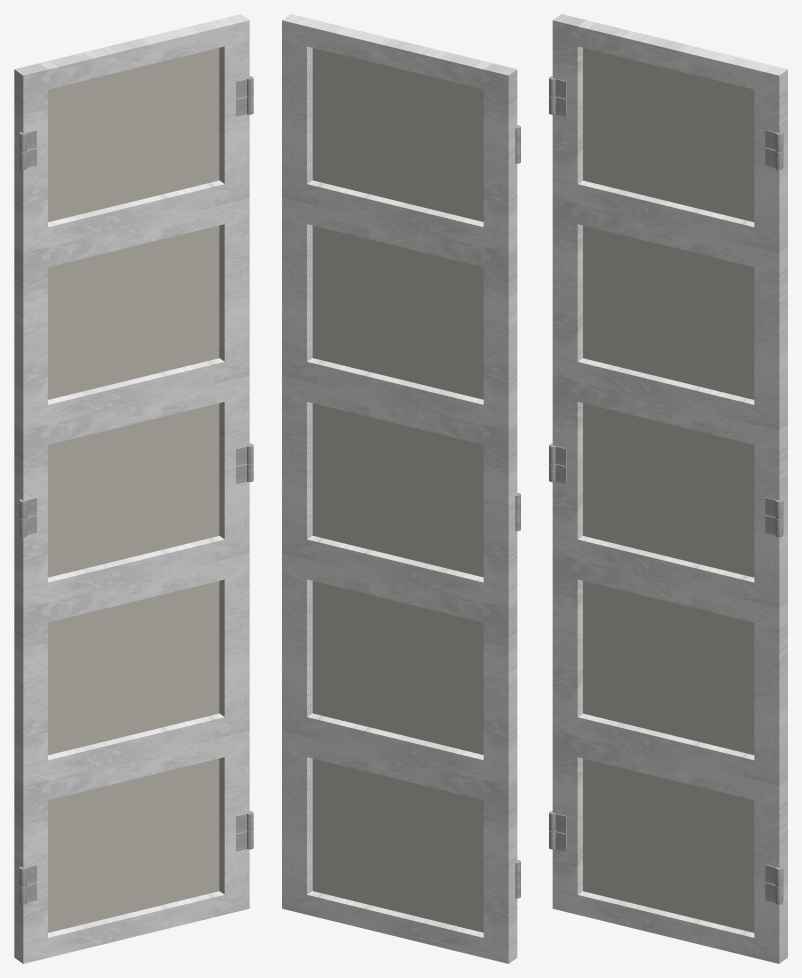
Rendered from DoorLeft2.fbx.
3 views of the same model, side by side, from view 1: azimuth 30°, elevation 25°; view 2: azimuth 150°, elevation 25°; view 3: azimuth 330°, elevation 25° (orthographic).
Visible parts, largest first — view 1: Door_Left2; view 2: Door_Left2; view 3: Door_Left2.
Boxes of the visible parts, <box> form: Door_Left2: <box>14,14,253,963</box>; Door_Left2: <box>282,14,520,963</box>; Door_Left2: <box>549,14,787,963</box>.
Bounding box in the file's own units: 69.74 × 254 × 5.45.
Materials: 3 (2 with a texture image).
